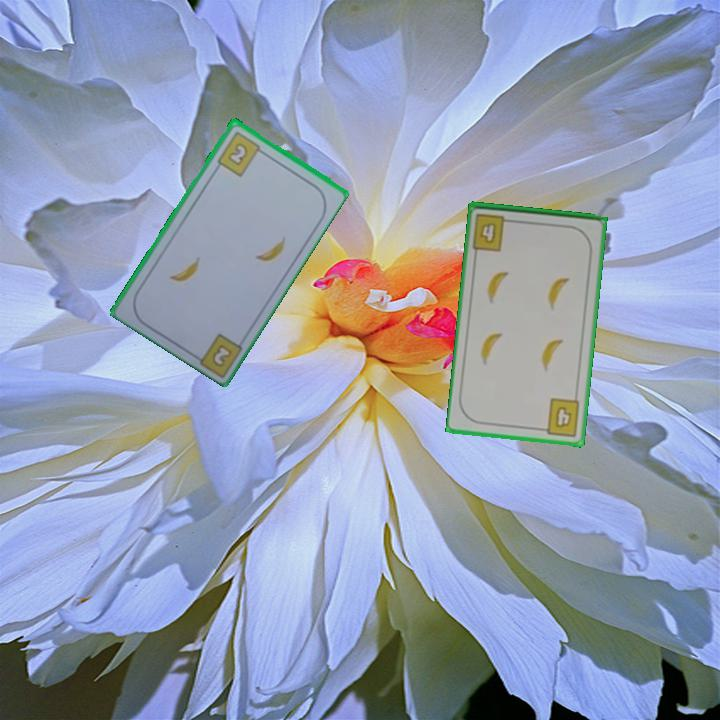2b: (213, 127, 267, 179), (208, 340, 235, 370)
4b: (536, 395, 583, 439), (469, 210, 516, 254)
